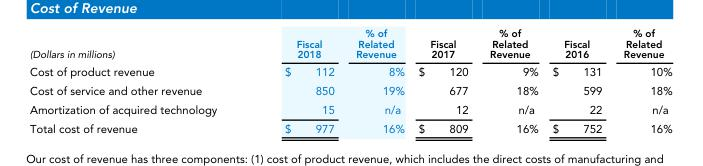table: (28, 28, 671, 134)
table column: (28, 28, 250, 134), (250, 28, 344, 134), (410, 28, 478, 134), (544, 28, 612, 134), (344, 28, 410, 134), (478, 28, 544, 134), (612, 28, 671, 134)
table column header: (28, 28, 671, 62)
table row: (28, 28, 671, 62), (28, 62, 671, 81), (28, 81, 671, 100), (28, 100, 671, 119), (28, 119, 671, 134)
